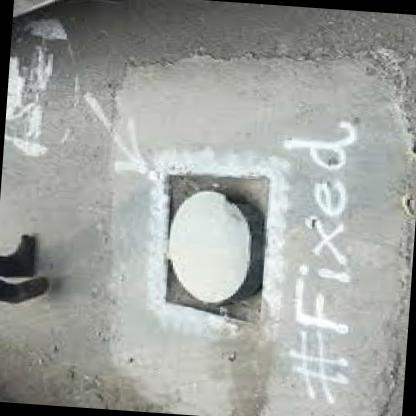manholes: (114, 156, 312, 380)
